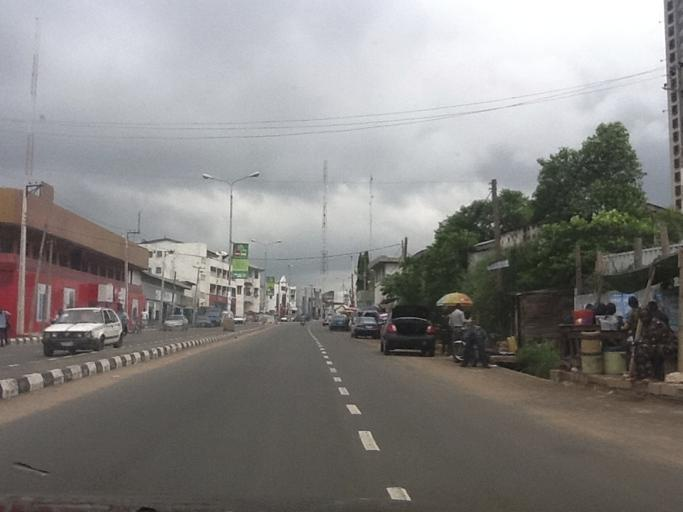non-vehicle: (449, 319, 485, 364), (124, 316, 146, 334)
